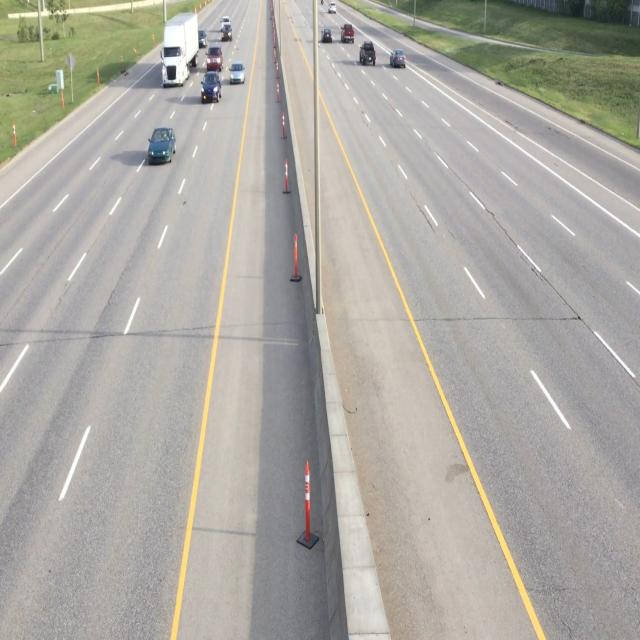Car: (162, 11, 199, 89), (146, 124, 176, 168), (202, 71, 222, 104), (356, 41, 377, 67), (206, 43, 224, 73), (391, 47, 407, 73), (230, 64, 246, 84)
